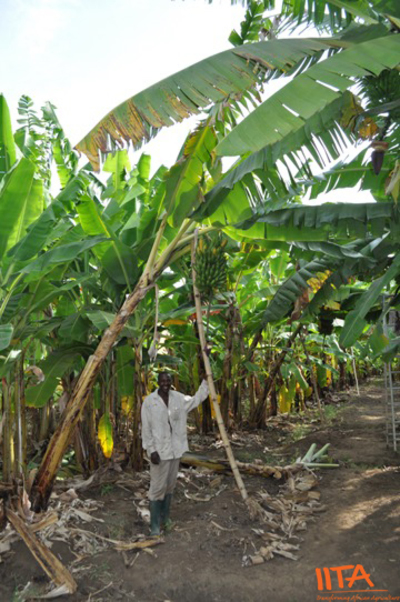bananaHand: (190, 232, 238, 294)
